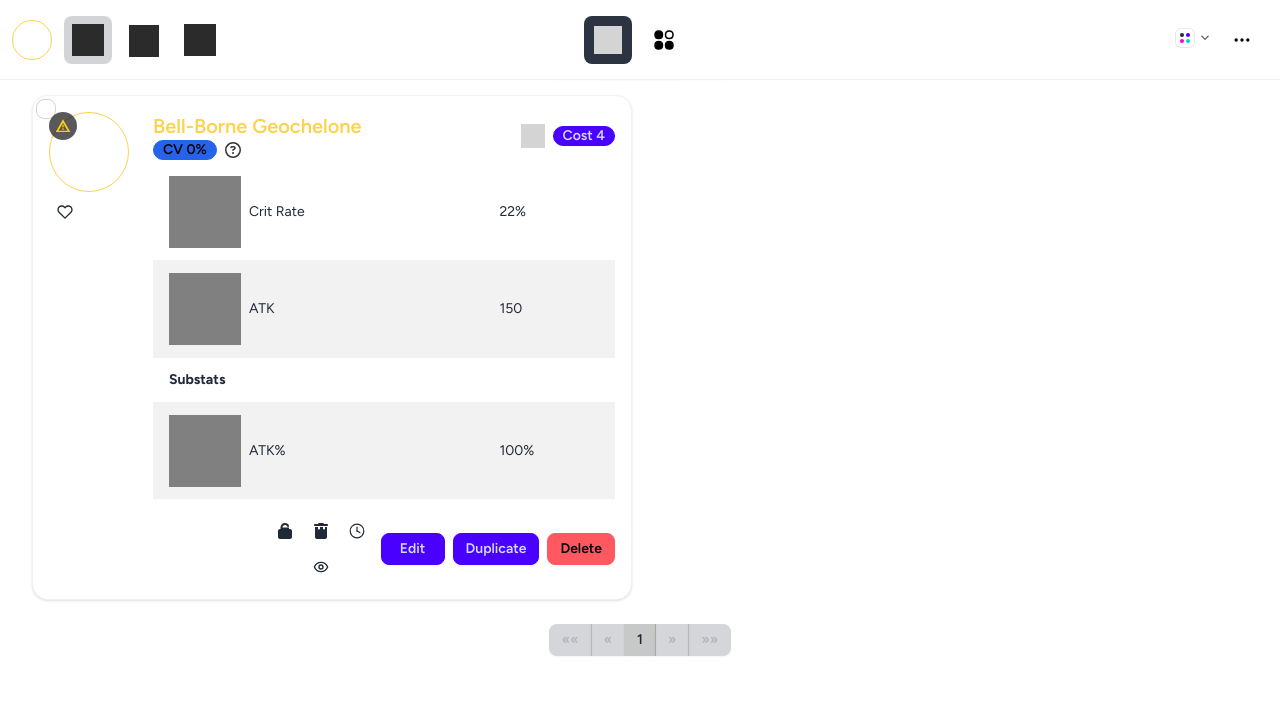
Echo Edit Panel — Inventory context (Labs flag) › stays off by default — the legacy modal renders unchanged
This screenshot has width=1280, height=720.
(page scrolled)
Click the button "Edit" at (413, 549), box [381,533,445,565]
(page scrolled)
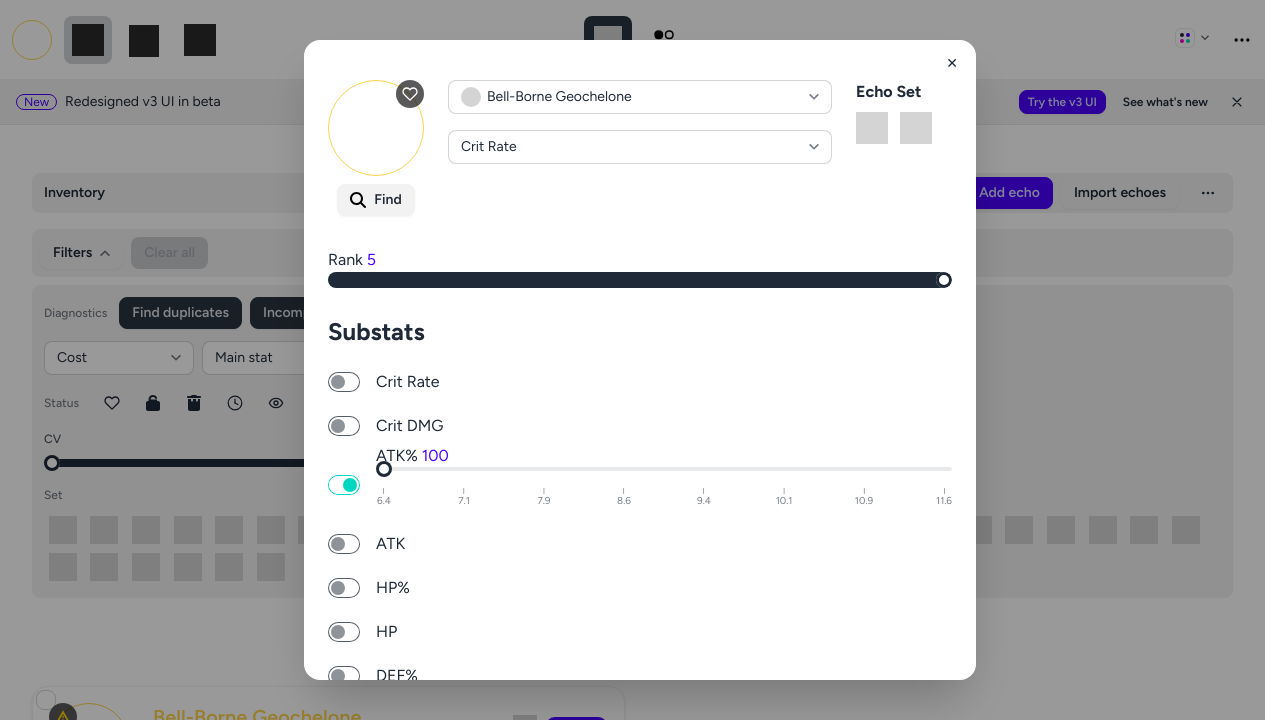
Check: the dialog with id "echoModal" is shown
